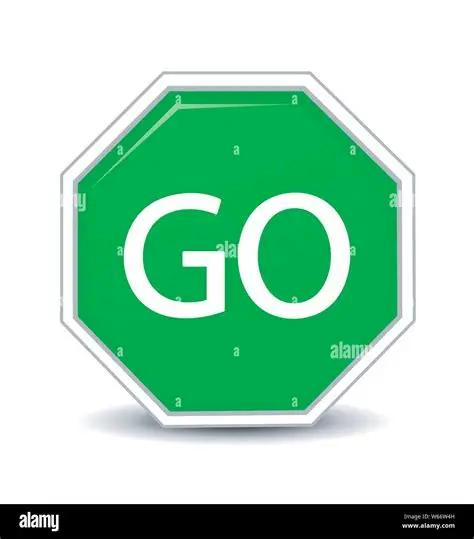Go: (73, 74, 403, 425)
